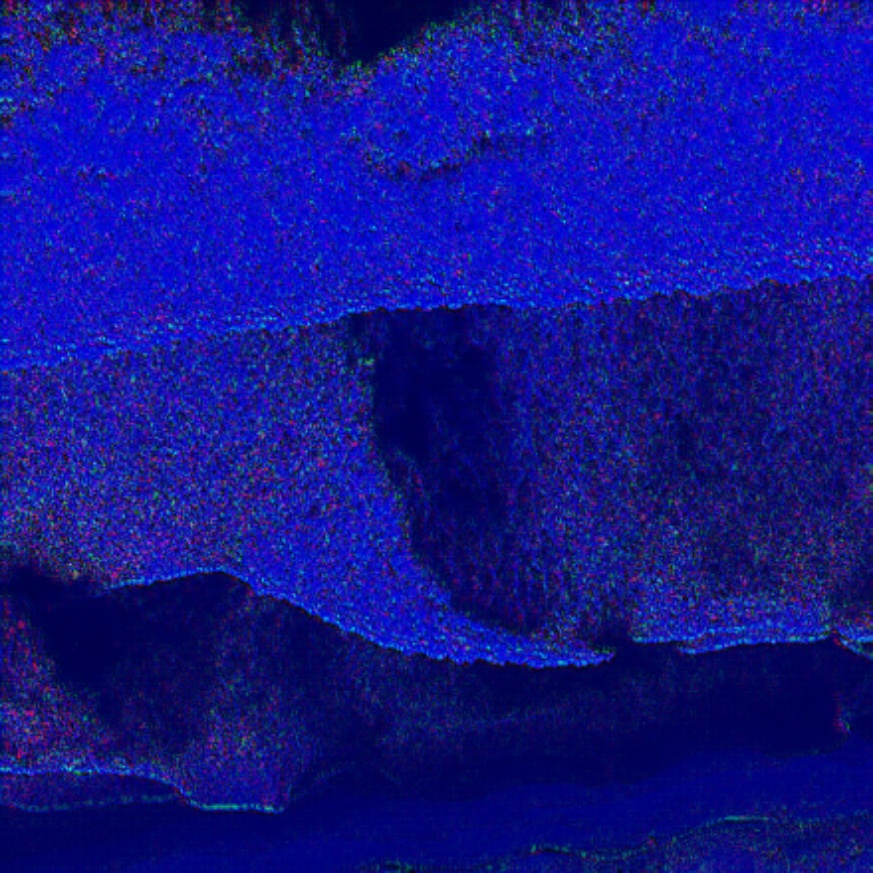rip_current: (265, 185, 640, 672)
